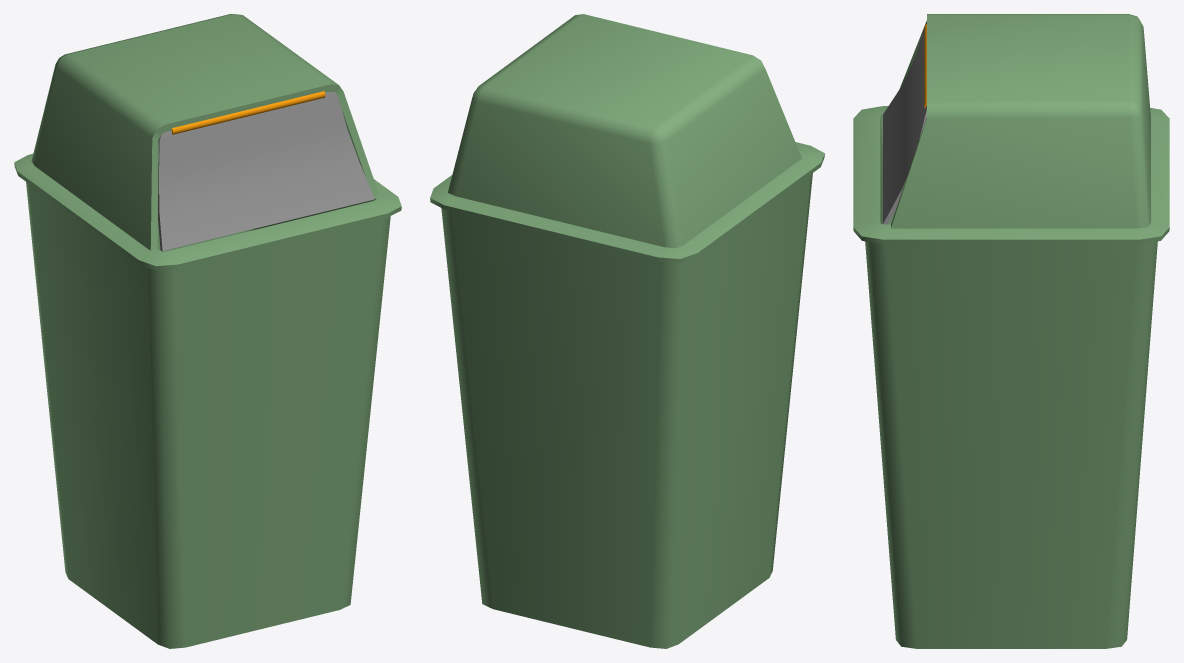
Rendered from Prop_TrashbinSingle_Plastic.fbx.
3 renders of one model, left to right at view 1: azimuth 30°, elevation 25°; view 2: azimuth 150°, elevation 25°; view 3: azimuth 270°, elevation 25°, orthographic. The views are drawn at different scales.
Parts seen in each view (by area): view 1: Baytek_Trashbin; view 2: Baytek_Trashbin; view 3: Baytek_Trashbin.
Boxes of the visible parts, box(x1,y1,x2,y2) form: Baytek_Trashbin: box(14, 14, 401, 648); Baytek_Trashbin: box(430, 14, 824, 648); Baytek_Trashbin: box(853, 14, 1169, 648).
Bounding box in the file's own units: 37 × 70 × 37.
